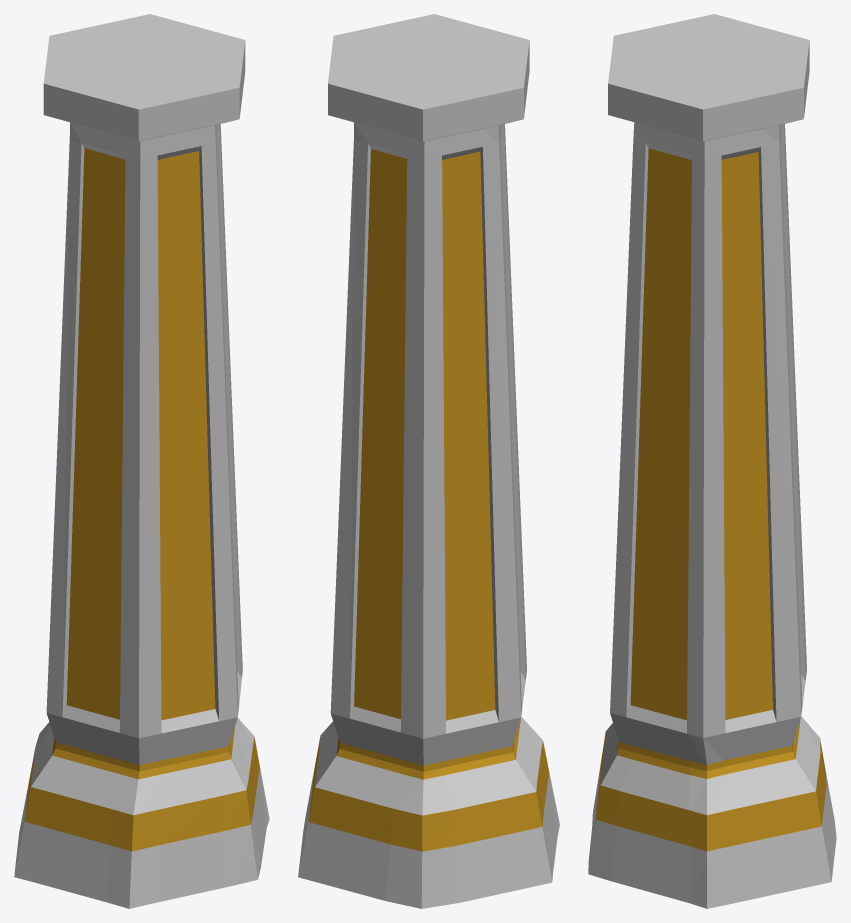
File: Column.fbx
3 views of the same model, side by side, from view 1: azimuth 30°, elevation 25°; view 2: azimuth 150°, elevation 25°; view 3: azimuth 270°, elevation 25° (orthographic).
Visible parts, largest first — view 1: Column; view 2: Column; view 3: Column.
Boxes of the visible parts, x1,y1,x2,y2 form: Column: [14, 14, 269, 908]; Column: [298, 14, 559, 908]; Column: [588, 14, 836, 908].
Size of the model in its own units: 267 by 800 by 229.
